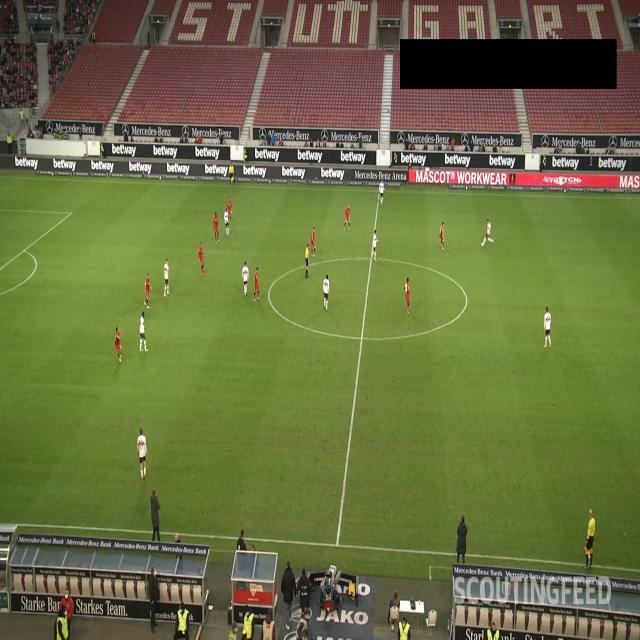ball: (481, 241, 484, 247)
f_player: (136, 428, 148, 482), (139, 310, 151, 352), (544, 306, 554, 348), (162, 258, 172, 298), (482, 218, 495, 248), (322, 276, 332, 313), (241, 261, 251, 297), (253, 266, 263, 302), (403, 276, 412, 315), (114, 327, 124, 362), (310, 223, 318, 260), (211, 214, 220, 246), (254, 266, 262, 302), (144, 273, 152, 309), (198, 243, 206, 277), (371, 230, 379, 262), (439, 222, 447, 251), (226, 197, 235, 222), (224, 210, 232, 238), (343, 204, 351, 230), (379, 180, 386, 206)
umpire: (583, 509, 597, 574), (304, 244, 311, 277), (227, 161, 235, 186)
